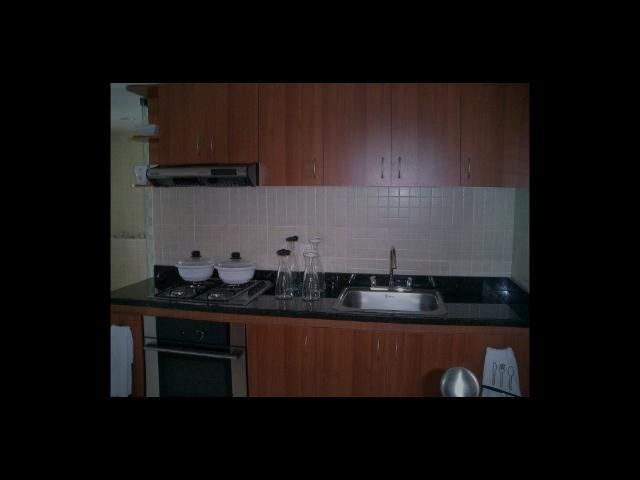Electrodomestico: (147, 291, 247, 394)
Lavaplatos: (334, 246, 450, 323)
